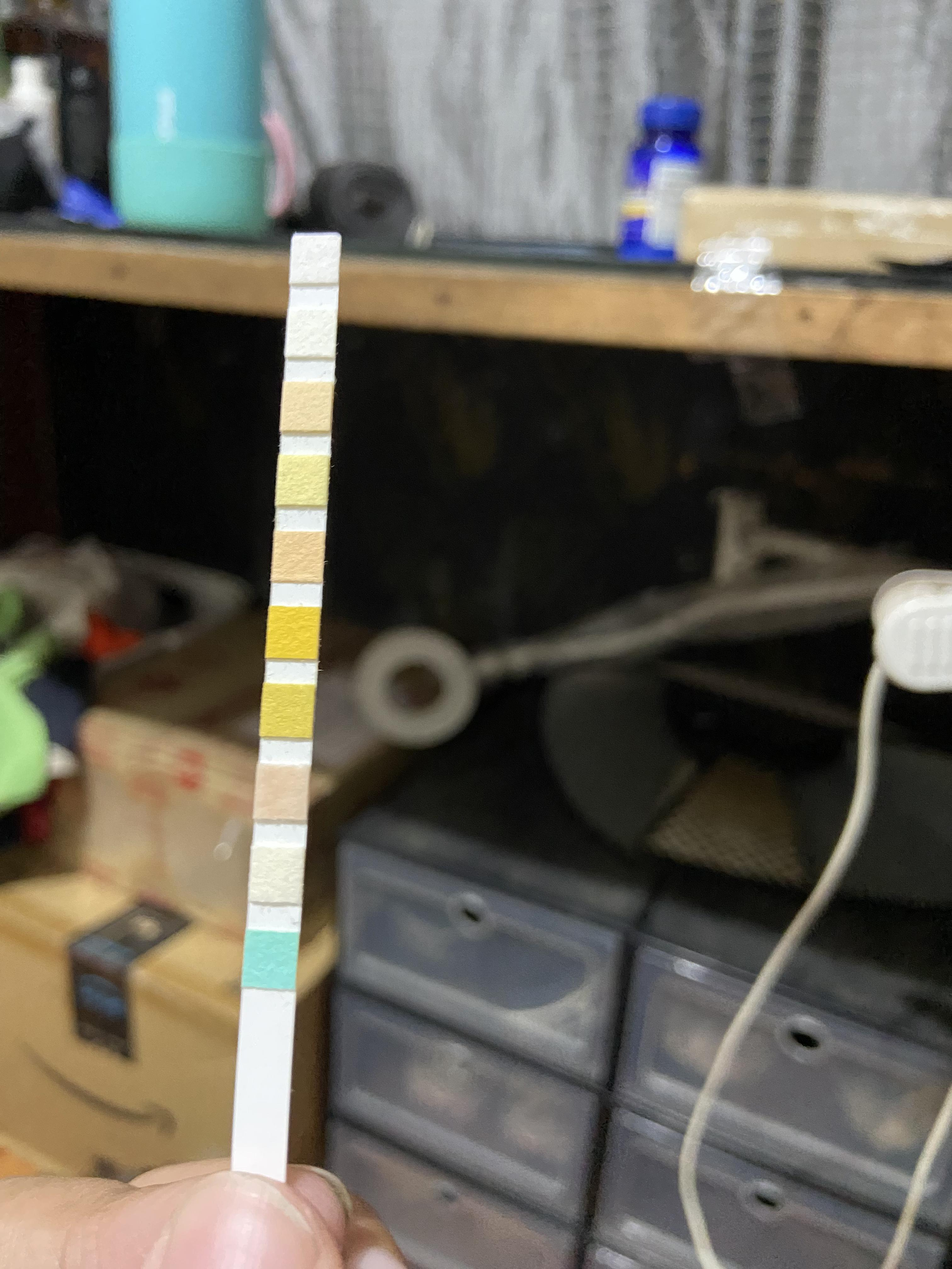Bilirubin: (253, 850, 302, 901)
Blood: (269, 608, 318, 656)
Glucose: (247, 933, 295, 985)
Ketone: (259, 768, 306, 816)
Leukocytes: (295, 238, 337, 280)
Nitrite: (290, 311, 333, 355)
Protein: (279, 460, 327, 503)
SpGravity: (264, 687, 313, 734)
Urobilinogen: (284, 386, 330, 429)
pH: (274, 534, 320, 579)
strip: (232, 234, 342, 1173)
